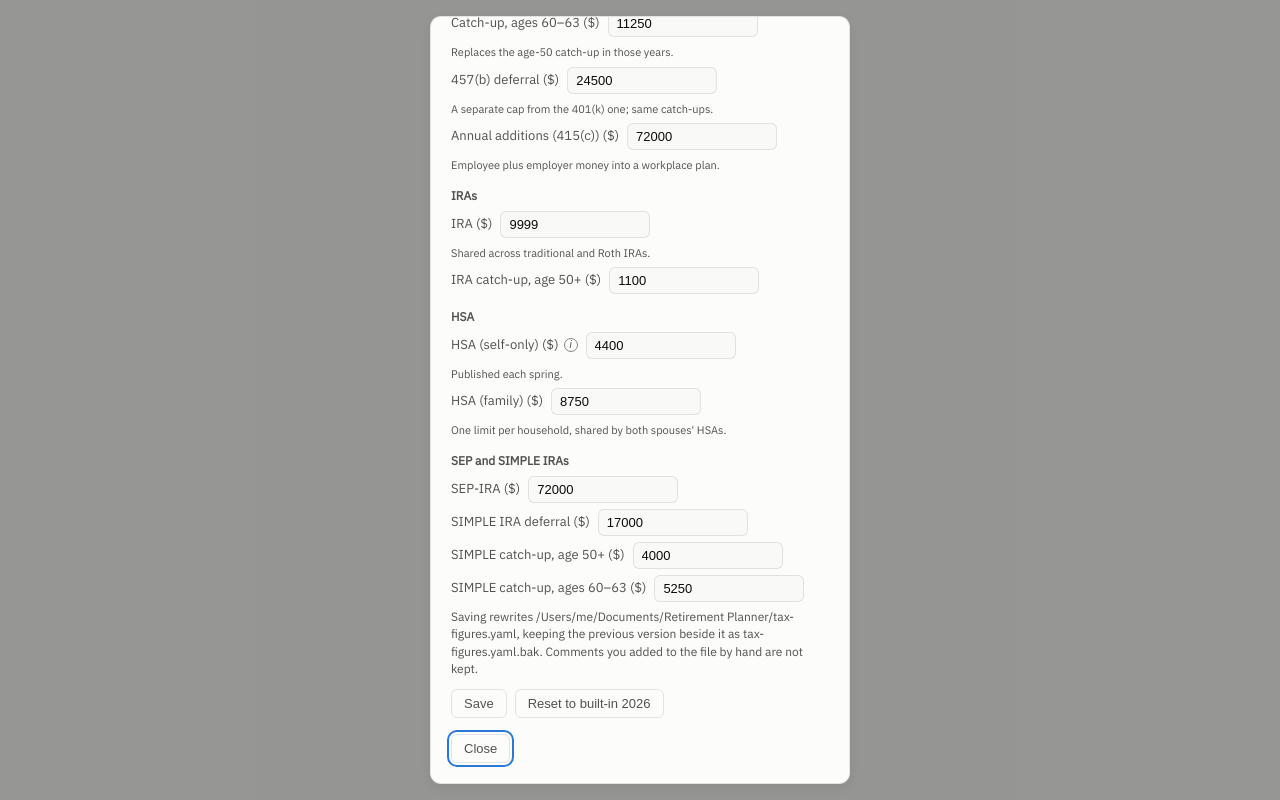
Test case: TaxFiguresEditor › resets the draft to the built-in figures without saving
(page scrolled)
Expected: the number field labelled "IRA ($)" holds "9999", [500,211,650,238]
Click the button "Reset to built-in 2026" at (589, 704), box [515,689,664,718]
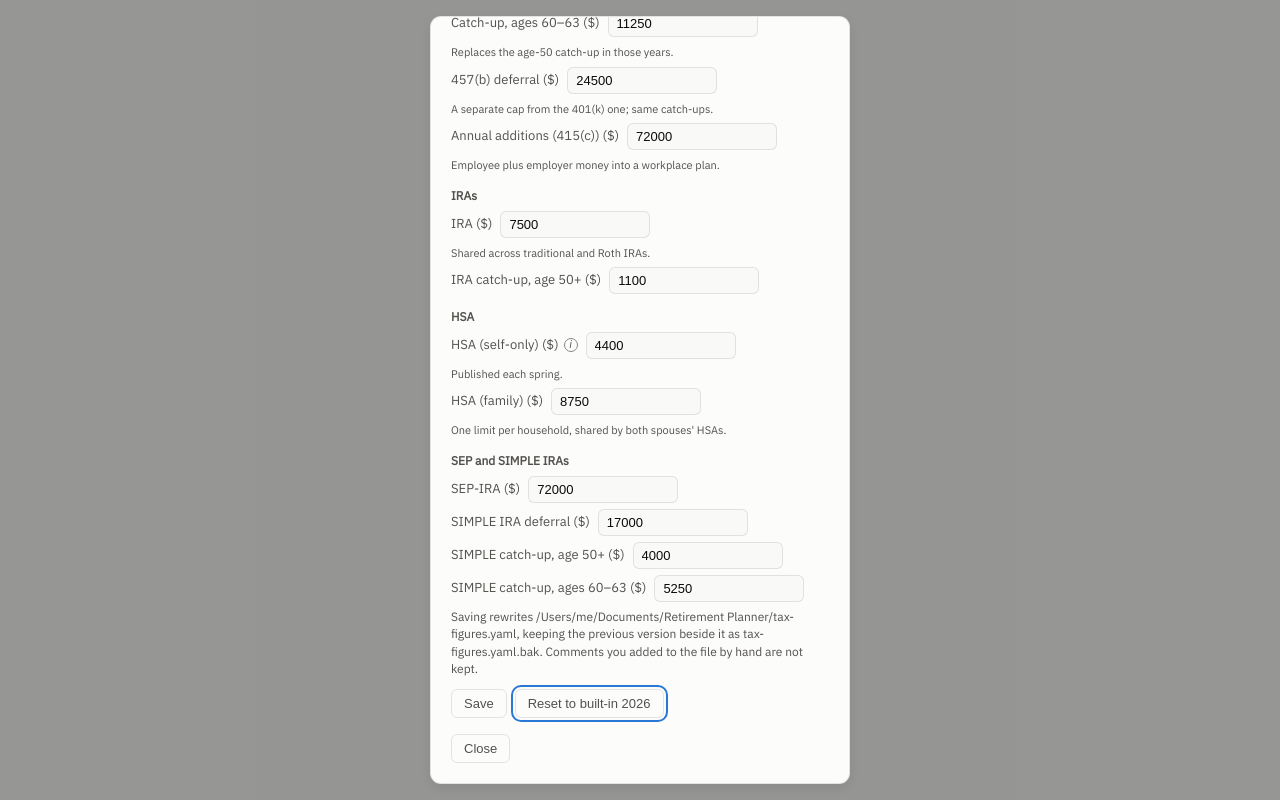
Expected: the number field labelled "IRA ($)" holds "7500", [500,211,650,238]
